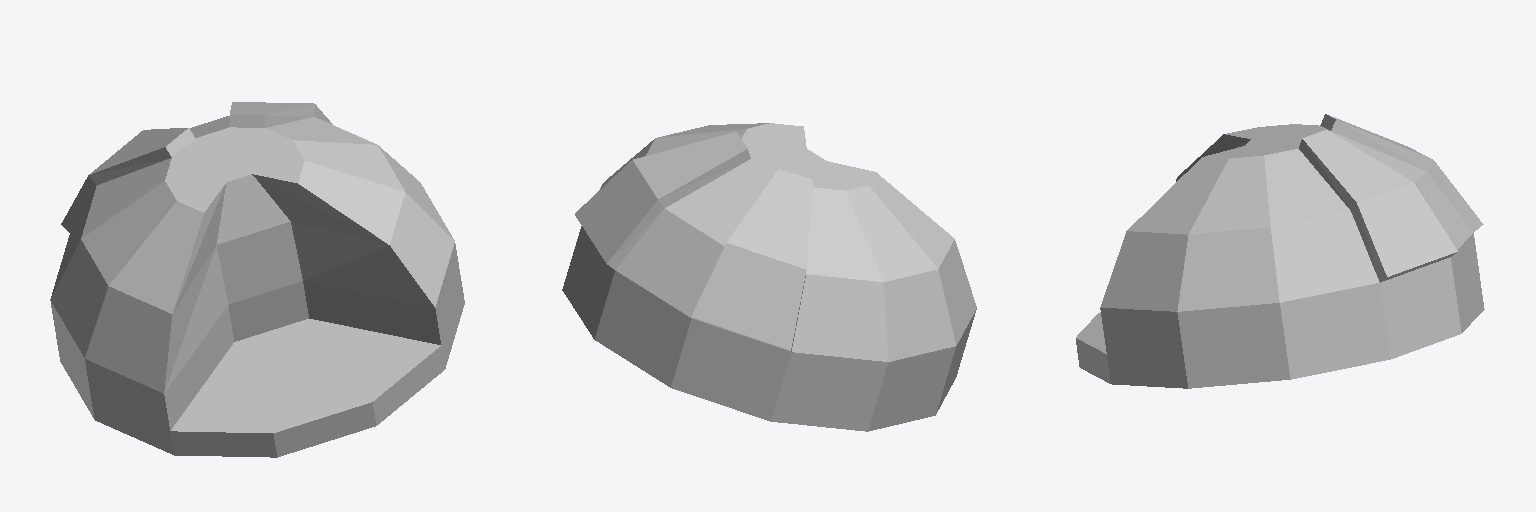
The model's file is RTurret.obj.
3 views of the same model, side by side, from view 1: azimuth 30°, elevation 25°; view 2: azimuth 150°, elevation 25°; view 3: azimuth 270°, elevation 25° (orthographic).
Parts seen in each view (by area): view 1: RTurret; view 2: RTurret; view 3: RTurret.
Part boxes in pixels (bbox=[...]): RTurret: bbox=[50, 102, 464, 457]; RTurret: bbox=[562, 123, 976, 431]; RTurret: bbox=[1076, 114, 1484, 388].
Size of the model in its own units: 30.69 by 20.8 by 30.23.